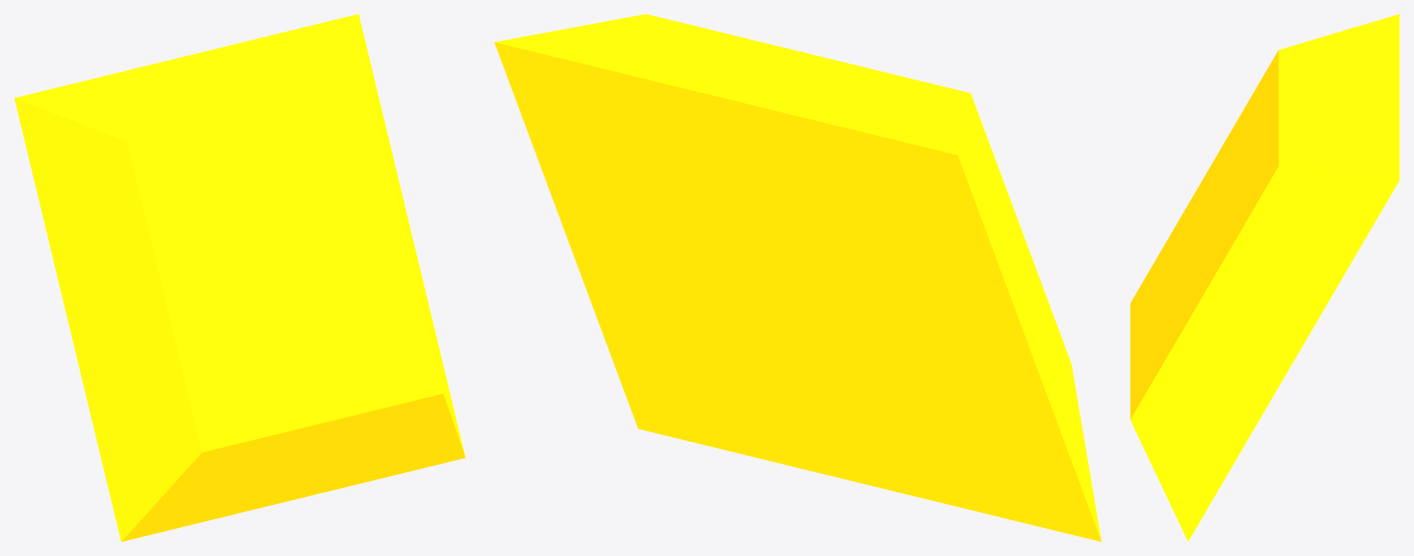
File: Wearable_Button_WelcomeArea.glb
The picture shows the model from 3 angles, left to right: view 1: azimuth 30°, elevation 25°; view 2: azimuth 150°, elevation 25°; view 3: azimuth 270°, elevation 25°; orthographic projection. The views are drawn at different scales.
Parts seen in each view (by area): view 1: Button; view 2: Button; view 3: Button.
Boxes of the visible parts, x1=… form: Button: x1=14, y1=14, x2=465, y2=541; Button: x1=494, y1=14, x2=1101, y2=541; Button: x1=1130, y1=14, x2=1399, y2=541.
Size of what is drawn, in the model's own units: 0.1474 by 0.1495 by 0.1009.
Materials: 1 (1 with a texture image).
